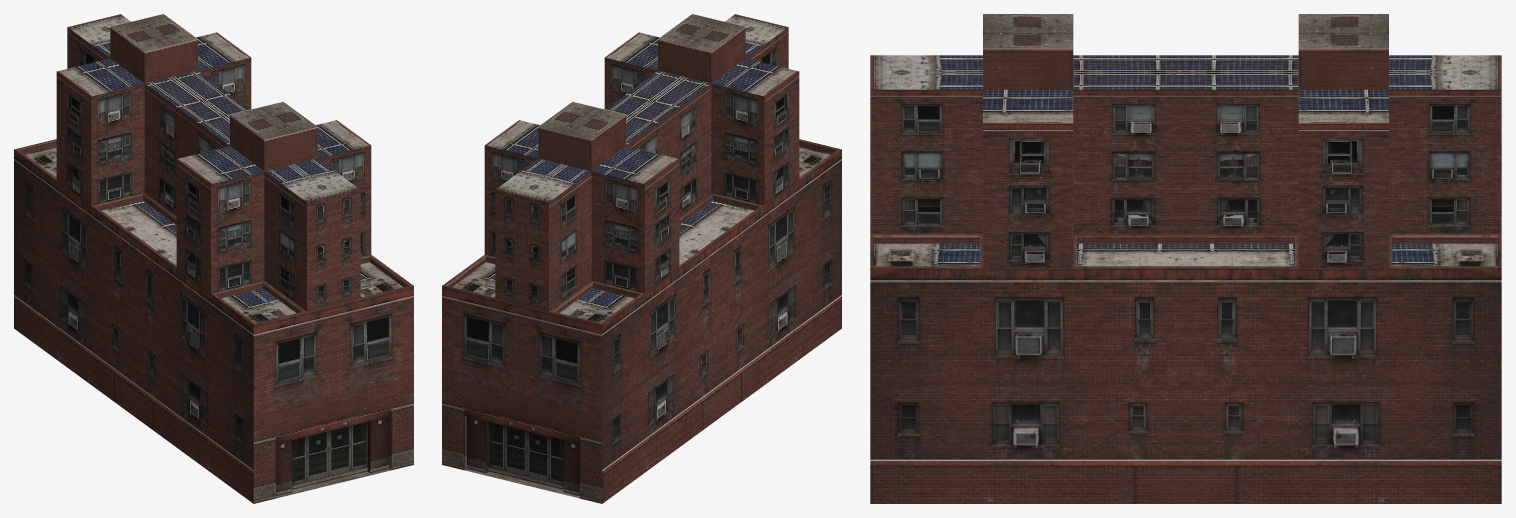
3 renders of one model, left to right at view 1: azimuth 30°, elevation 25°; view 2: azimuth 150°, elevation 25°; view 3: azimuth 270°, elevation 25°, orthographic. The views are drawn at different scales.
Parts seen in each view (by area): view 1: B014; view 2: B014; view 3: B014.
Part boxes in pixels (bbox=[...]): B014: bbox=[14, 14, 413, 503]; B014: bbox=[442, 14, 841, 503]; B014: bbox=[870, 14, 1501, 503].
Bounding box in the file's own units: 2.38 × 4.55 × 6.18.
1 material, 1 textured.
